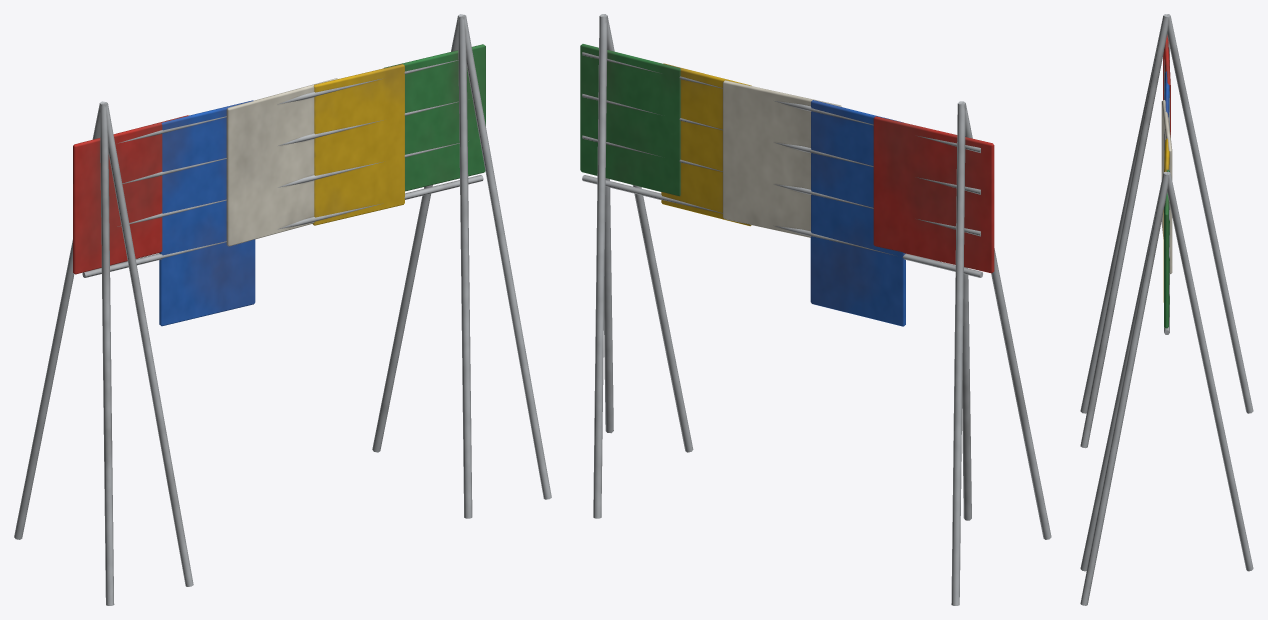
The model's file is fas_suszarka.glb.
The picture shows the model from 3 angles, left to right: view 1: azimuth 30°, elevation 25°; view 2: azimuth 150°, elevation 25°; view 3: azimuth 270°, elevation 25°; orthographic projection. The views are drawn at different scales.
Visible parts, largest first — view 1: Suszarka; view 2: Suszarka; view 3: Suszarka.
Part boxes in pixels (<box>): Suszarka: <box>14,14,551,605</box>; Suszarka: <box>580,14,1051,605</box>; Suszarka: <box>1080,14,1253,605</box>.
Size of the model in its own units: 1.12 by 1.1 by 0.4177.
1 material, 1 textured.
